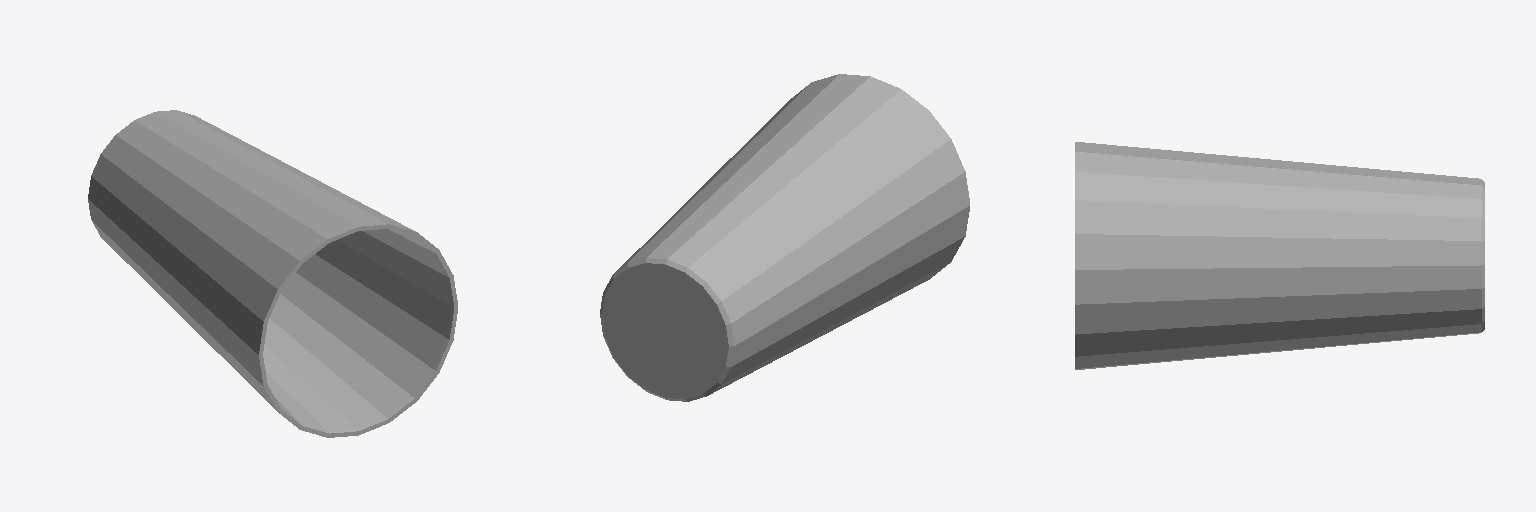
File: plastic_glass_visual.obj
The picture shows the model from 3 angles: view 1: azimuth 30°, elevation 25°; view 2: azimuth 150°, elevation 25°; view 3: azimuth 270°, elevation 25°; orthographic projection.
Size of the model in its own units: 0.096 by 0.096 by 0.171.